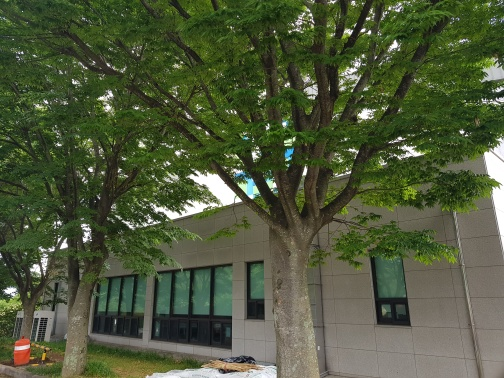Gym: (47, 170, 484, 368)
